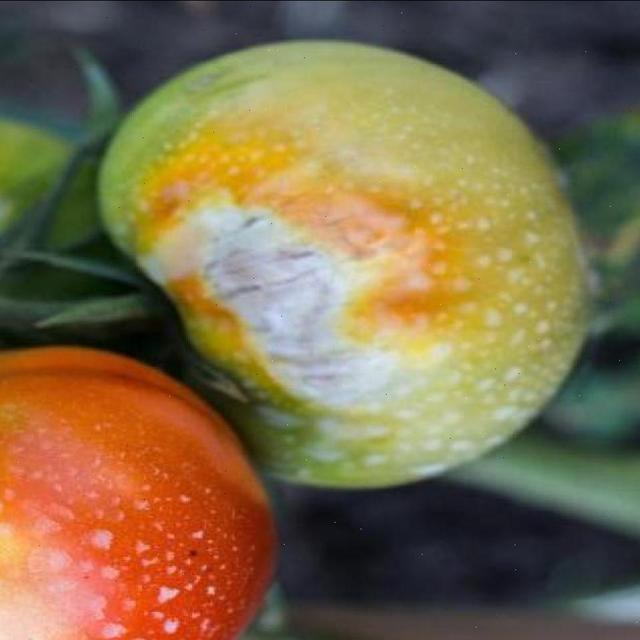Sunscald Fruit: (105, 102, 278, 284)
